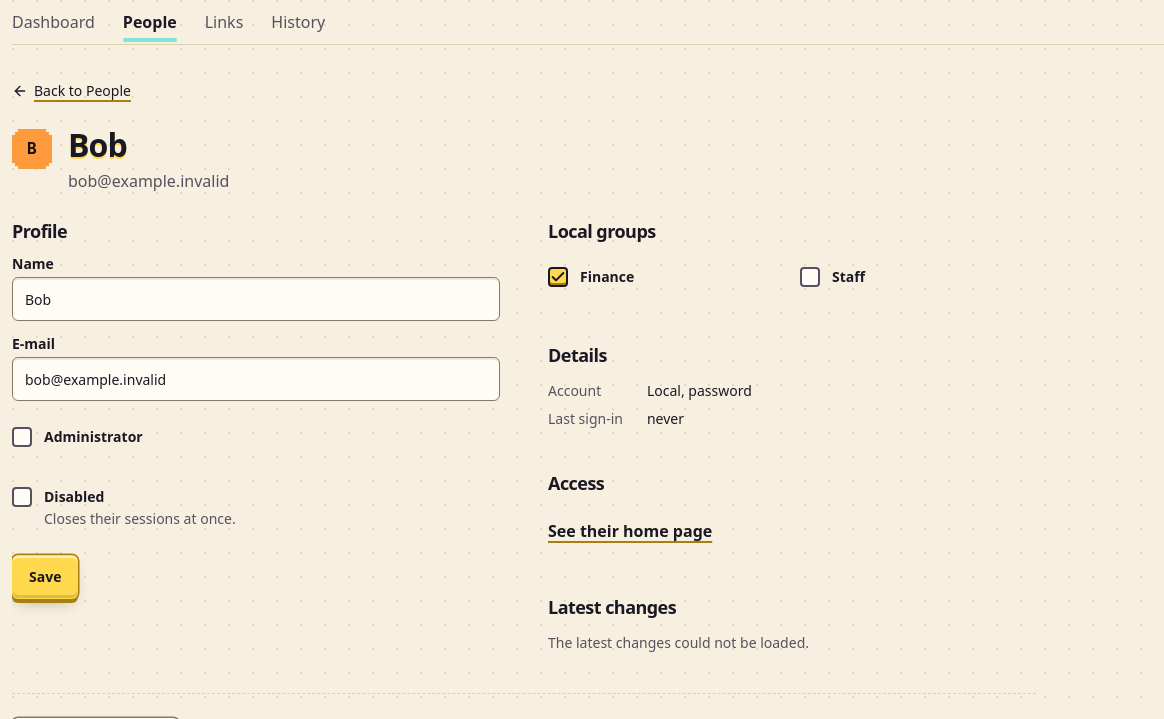
Test: PersonPage › announces a saved profile without moving the focus
Expected: the heading "Bob" is shown, [68,123,127,166]
Replace the text in the field labelled "Name" with "Robert". click: point(256, 299)
box: [12,277,500,321]
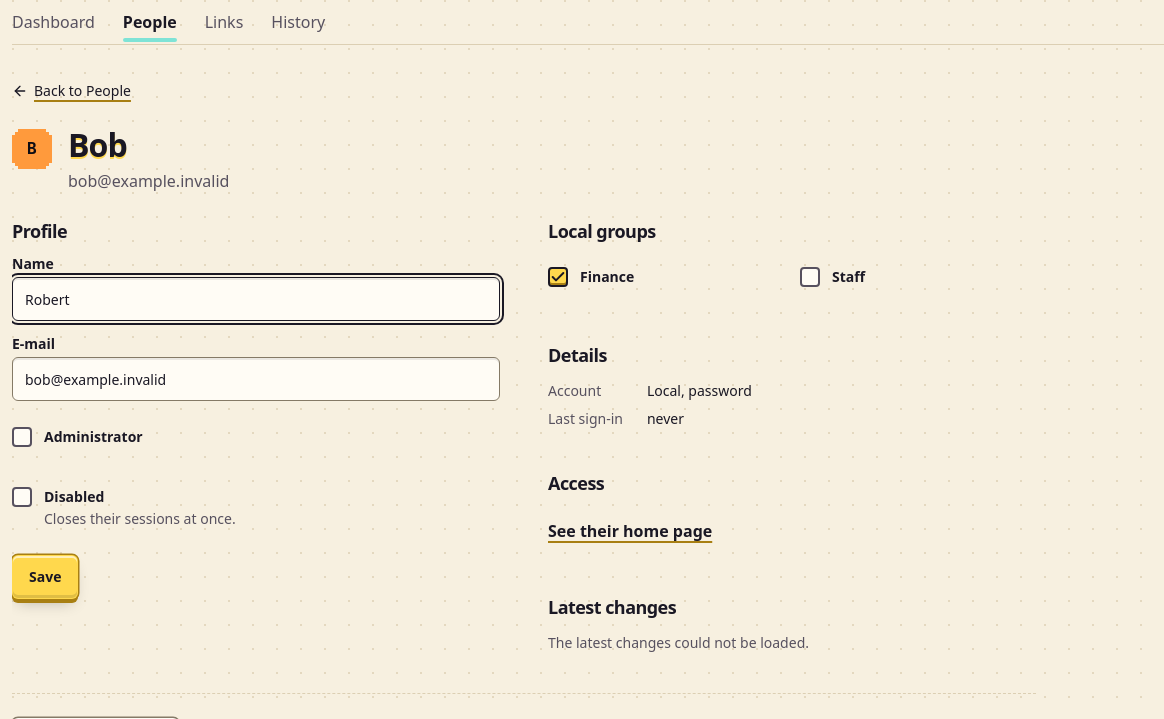
Click the button "Save". click: point(45, 577)
box: [12,555,78,599]
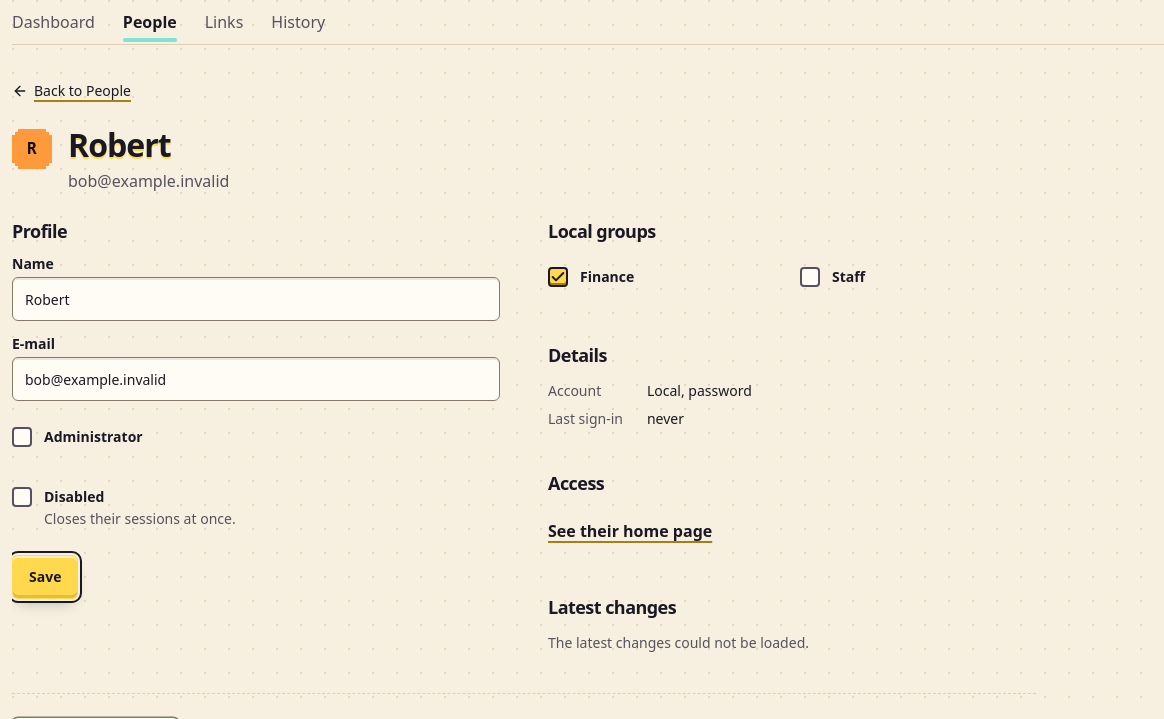
Now the heading "Robert" is shown, box [68,123,171,166]
